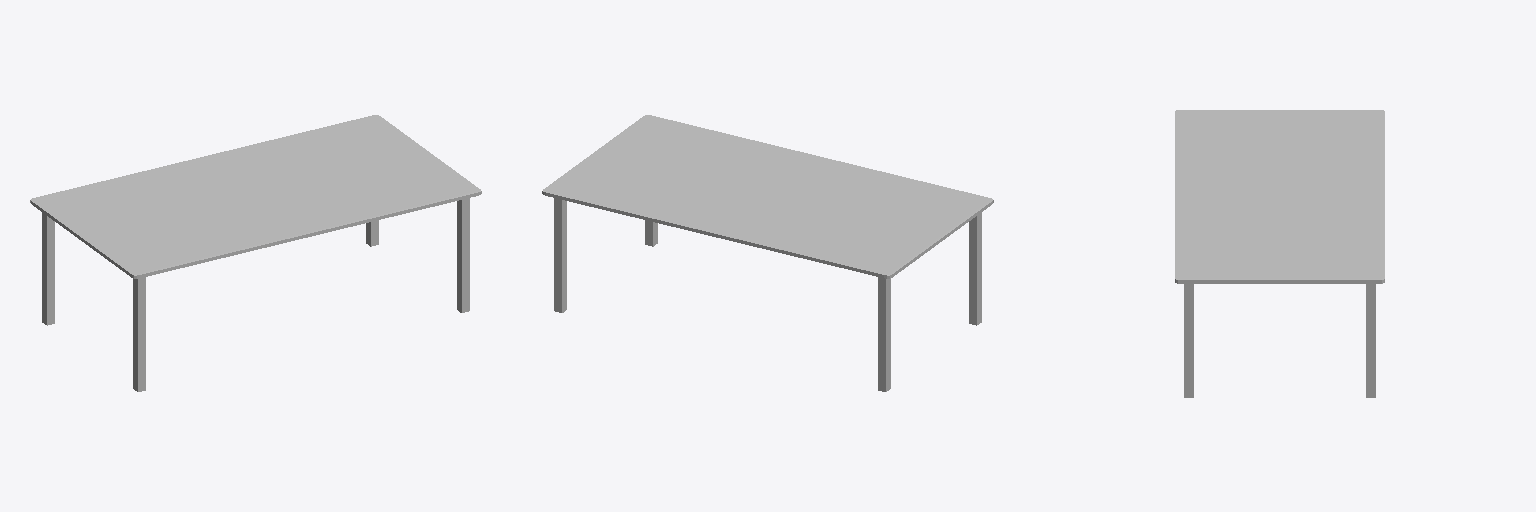
Rendered from Table 2 LessBugs.obj.
3 renders of one model, left to right at view 1: azimuth 30°, elevation 25°; view 2: azimuth 150°, elevation 25°; view 3: azimuth 270°, elevation 25°, orthographic.
Visible parts, largest first — view 1: Cube_Cube, Cube.001_Cube.001; view 2: Cube_Cube, Cube.001_Cube.001; view 3: Cube_Cube, Cube.001_Cube.001.
Boxes of the visible parts, x1,y1,x2,y2 form: Cube_Cube: [30, 115, 481, 278]; Cube.001_Cube.001: [42, 198, 469, 391]; Cube_Cube: [542, 115, 993, 278]; Cube.001_Cube.001: [554, 198, 981, 391]; Cube_Cube: [1175, 110, 1384, 283]; Cube.001_Cube.001: [1184, 284, 1375, 397].
Size of the model in its own units: 21 by 7 by 11.